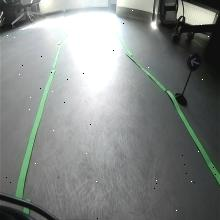left: (187, 52, 202, 73)
